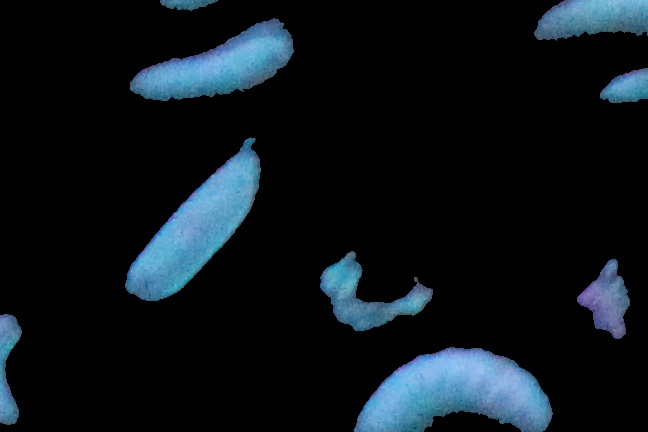larvae: (124, 132, 271, 302), (348, 344, 556, 432), (120, 18, 296, 102), (534, 1, 648, 43)
